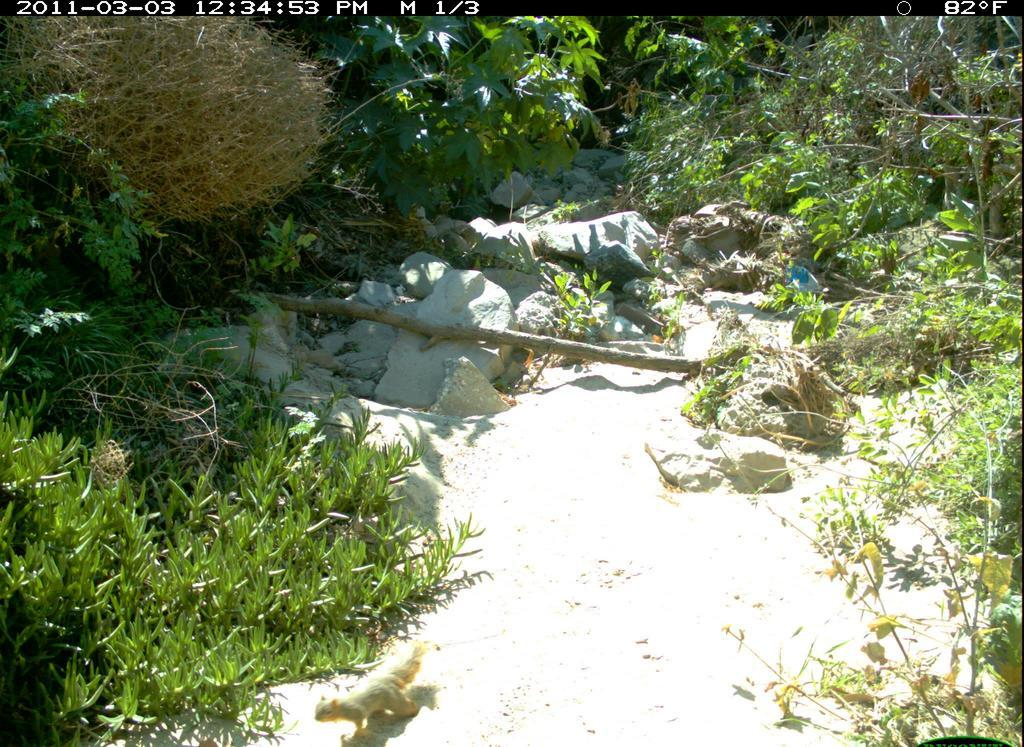squirrel: (312, 641, 432, 740)
